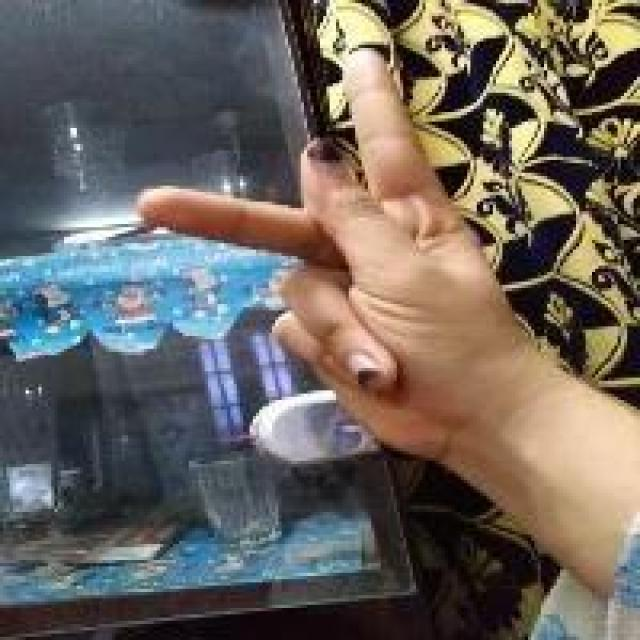K: (134, 35, 496, 458)
